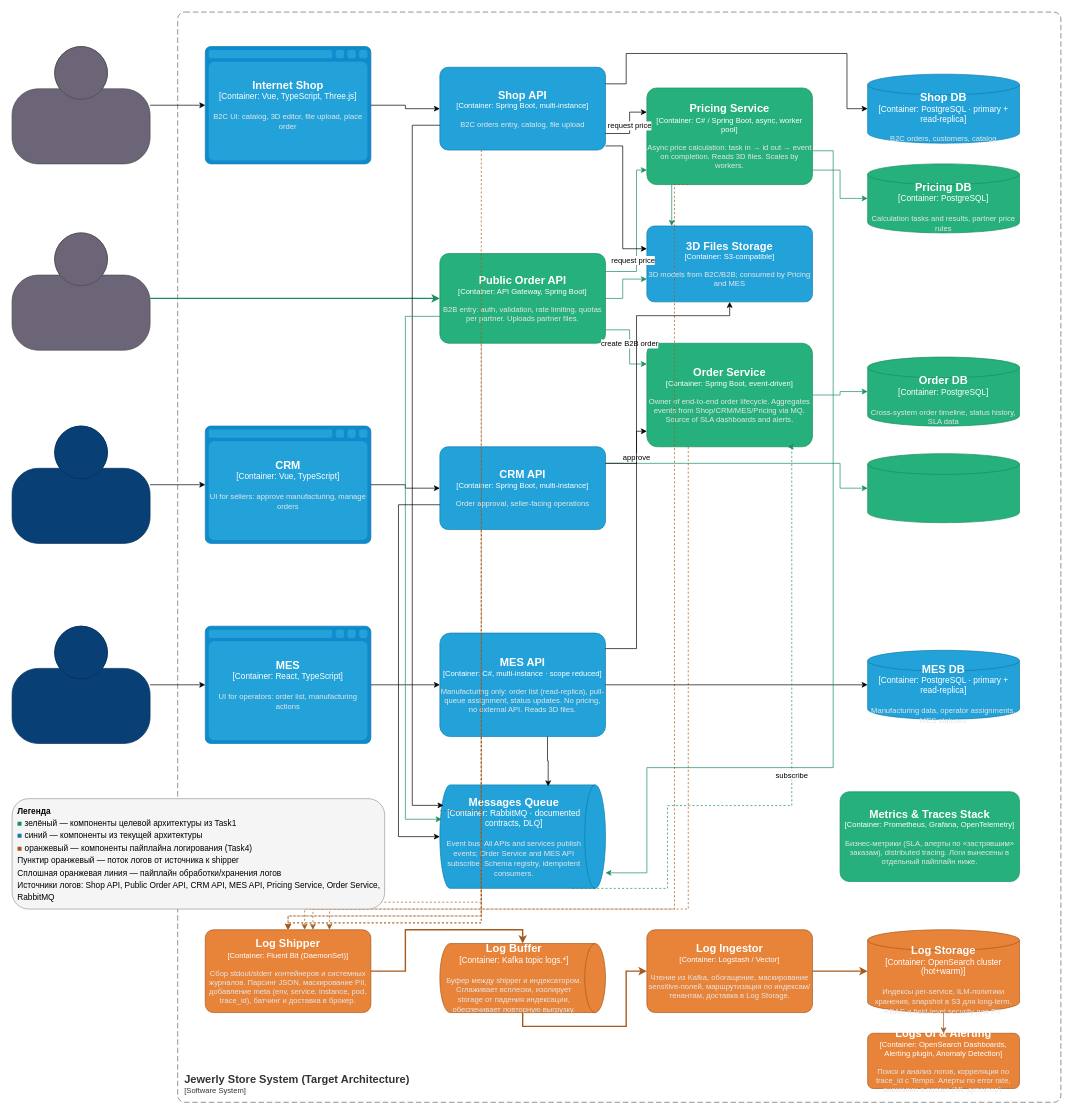
The diagram is 1073 pixels wide and 1114 high, and some of its shapes have lost their labels. Each missing label, with the box of its shape:
API user (B2B partner) [Person] Submits orders via partner API: (11, 232, 150, 350)
CRM DB [Container: PostgreSQL] CRM-owned data, no longer shares Shop DB: (867, 453, 1019, 523)
Customer [Person] Places orders, uploads 3D models: (11, 46, 150, 164)
Operator [Person] Takes orders in work, manufactures jewelry: (11, 625, 150, 743)
Seller [Person] Operates with orders, confirms manufacturing: (11, 425, 150, 543)
